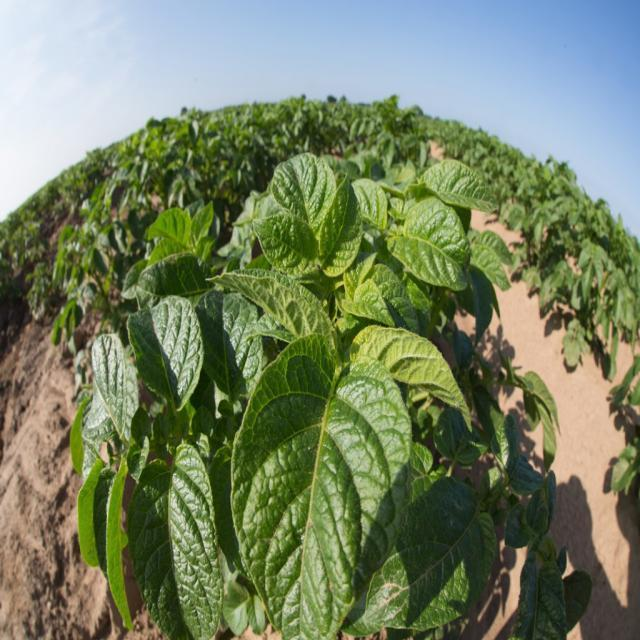Healthy Leaf: (242, 322, 405, 640), (132, 431, 228, 640), (390, 196, 480, 290), (129, 291, 201, 407), (422, 151, 500, 222), (318, 172, 360, 280), (254, 214, 322, 278)
